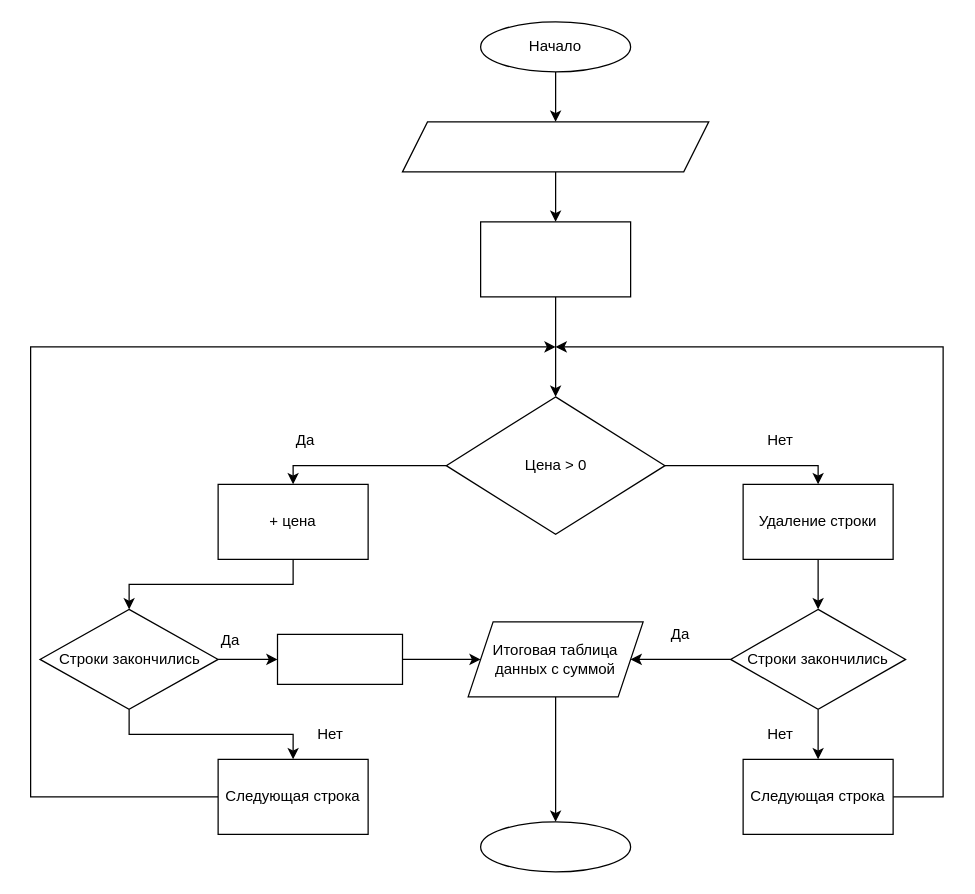
Some shapes in this 975 by 894 pixel diagram are drawn without their labels. The shapes that lost their labels are listed below. From the top down, each one's centre as x and y in pixels, then its label:
the point at 555,146: Таблица данных "sales"
the point at 555,259: Поиск столбца "цена"
the point at 339,658: Запись
the point at 555,846: Конец
